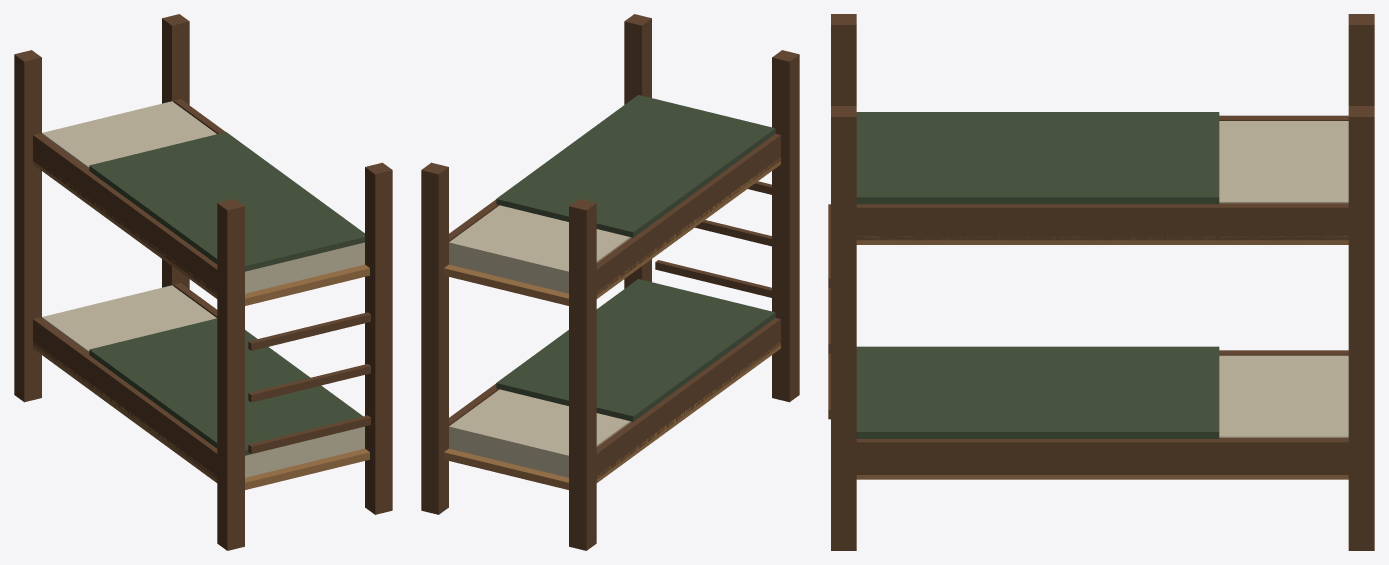
The model's file is Bunk.fbx.
3 views of the same model, side by side, from view 1: azimuth 30°, elevation 25°; view 2: azimuth 150°, elevation 25°; view 3: azimuth 270°, elevation 25° (orthographic). The views are drawn at different scales.
Parts seen in each view (by area): view 1: Bunk; view 2: Bunk; view 3: Bunk.
Part boxes in pixels (x1,y1,x2,y2): Bunk: [14, 14, 392, 550]; Bunk: [421, 14, 799, 550]; Bunk: [828, 14, 1374, 550].
Size of the model in its own units: 0.94 by 1.85 by 2.11.
